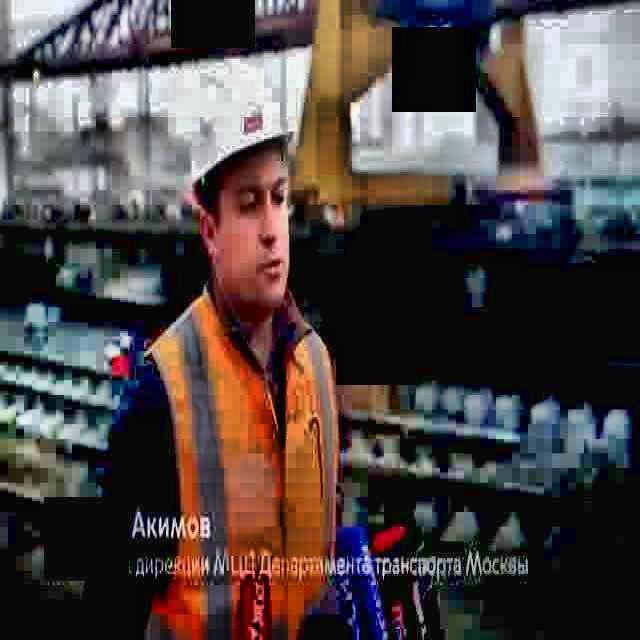safety_helmet: (192, 68, 292, 196)
safety_jacket: (144, 289, 342, 640)
